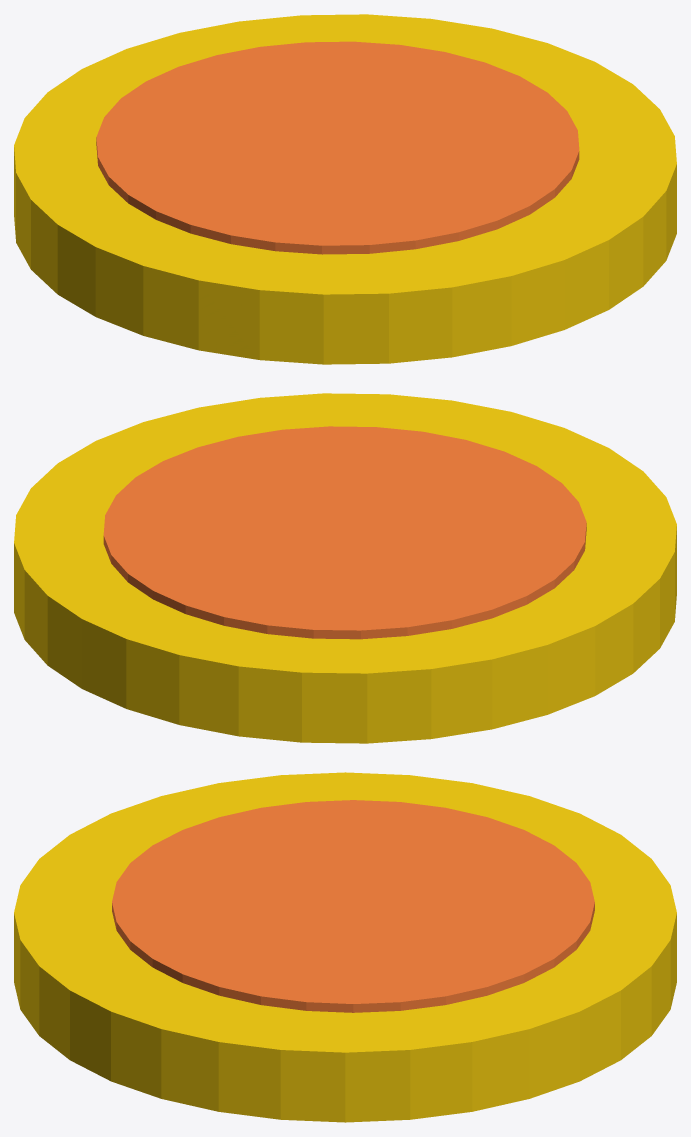
The model's file is Moeda.fbx.
3 views of the same model, one above another, from view 1: azimuth 30°, elevation 25°; view 2: azimuth 150°, elevation 25°; view 3: azimuth 270°, elevation 25° (orthographic).
Visible parts, largest first — view 1: Cilindro, Cilindro.001; view 2: Cilindro, Cilindro.001; view 3: Cilindro, Cilindro.001.
Part boxes in pixels (x1,y1,x2,y2): Cilindro: [14, 14, 676, 364]; Cilindro.001: [96, 41, 579, 254]; Cilindro: [14, 393, 676, 743]; Cilindro.001: [103, 426, 586, 639]; Cilindro: [14, 772, 676, 1122]; Cilindro.001: [112, 800, 594, 1012].
Bounding box in the file's own units: 200 × 29.07 × 200.
2 materials, 2 textured.
